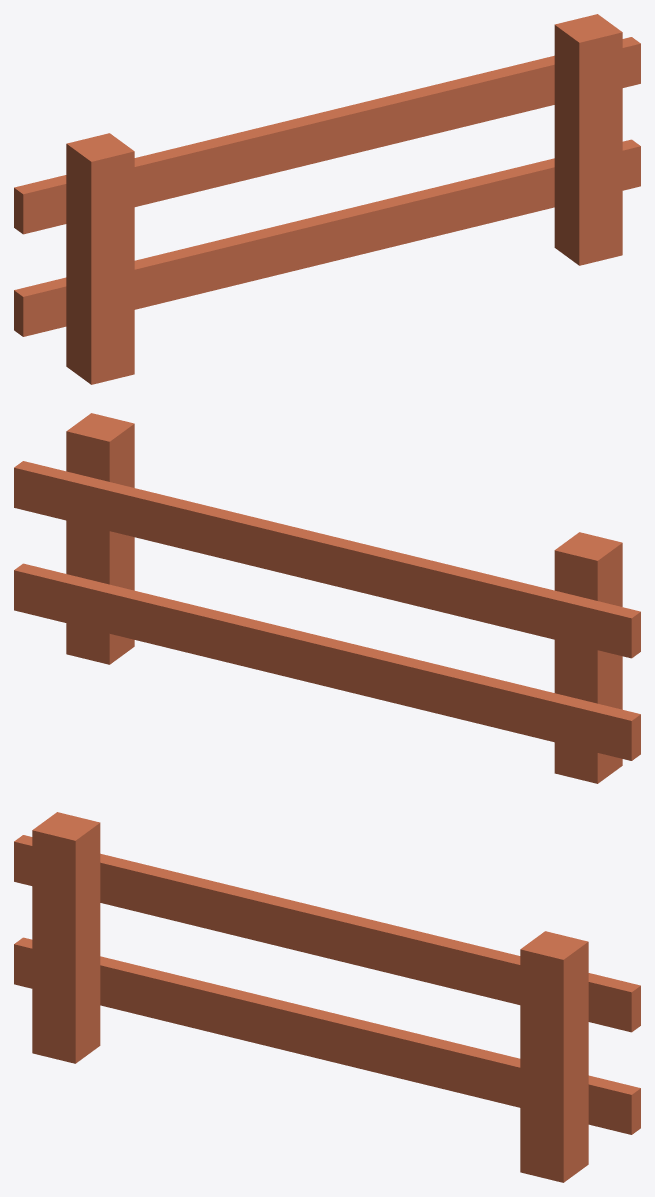
File: planks.glb
3 views of the same model, one above another, from view 1: azimuth 30°, elevation 25°; view 2: azimuth 150°, elevation 25°; view 3: azimuth 330°, elevation 25° (orthographic).
Visible parts, largest first — view 1: fence_planks; view 2: fence_planks; view 3: fence_planks.
Part boxes in pixels (<box>): fence_planks: <box>14,14,640,384</box>; fence_planks: <box>14,413,640,783</box>; fence_planks: <box>14,812,640,1182</box>.
Size of the model in its own units: 1 by 0.345 by 0.0959.
